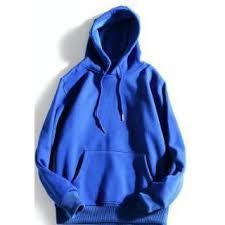sweater: (41, 9, 182, 225)
